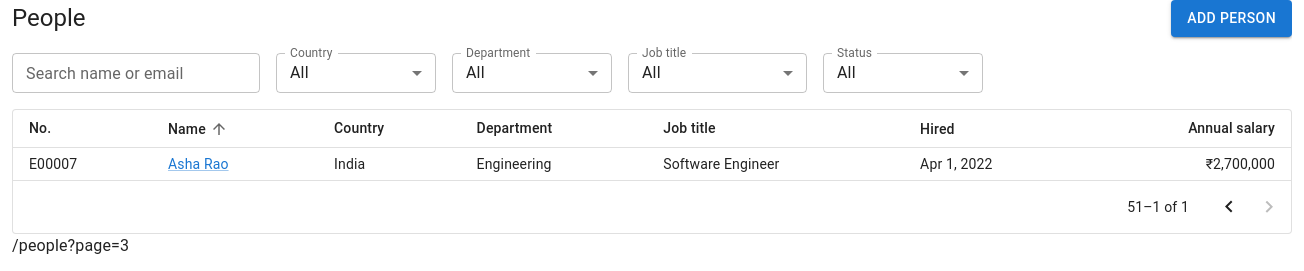
Test case: a filter narrows the list and goes back to the first page
Select "India" in the dropdown labelled "Country". click: (356, 72)
box: 276,52 -> 436,92
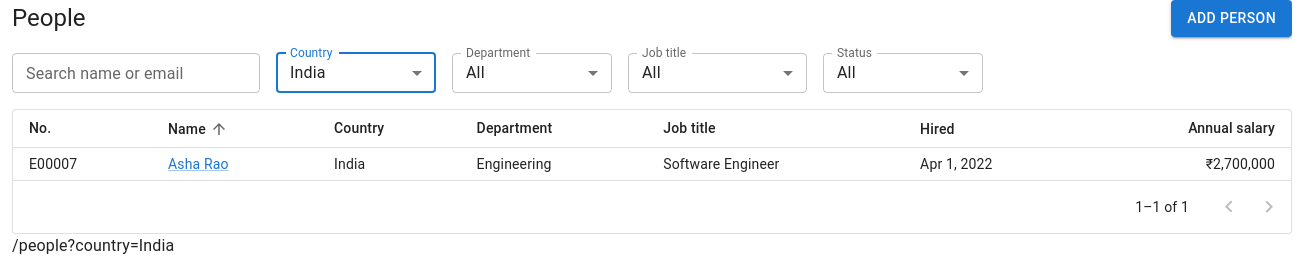
expect the text with test id "address" reads "/people?country=India": met, box 12,236 -> 174,255
